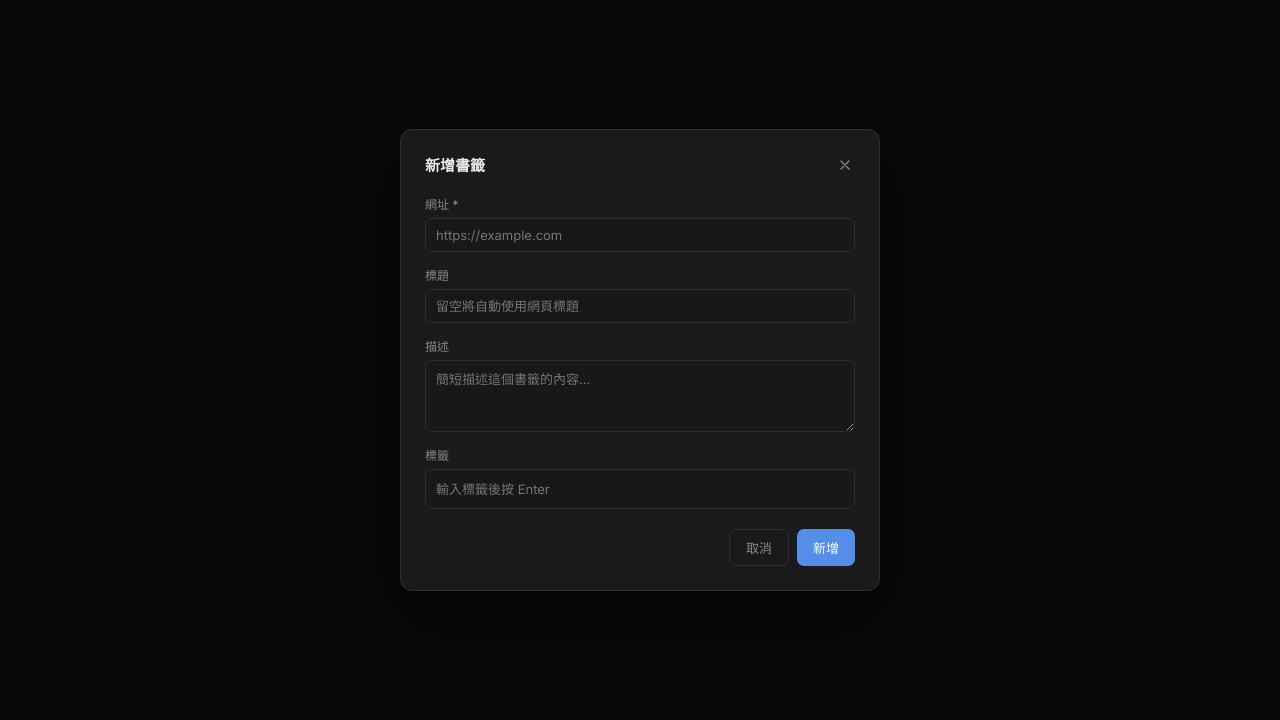
BookmarkModal › 點 tag 的 × → tag 從畫面消失
Note: 先加一個 tag
Type "vue" into the field with placeholder "輸入標籤後按 Enter". click: (640, 489)
box: [436,476,844,502]
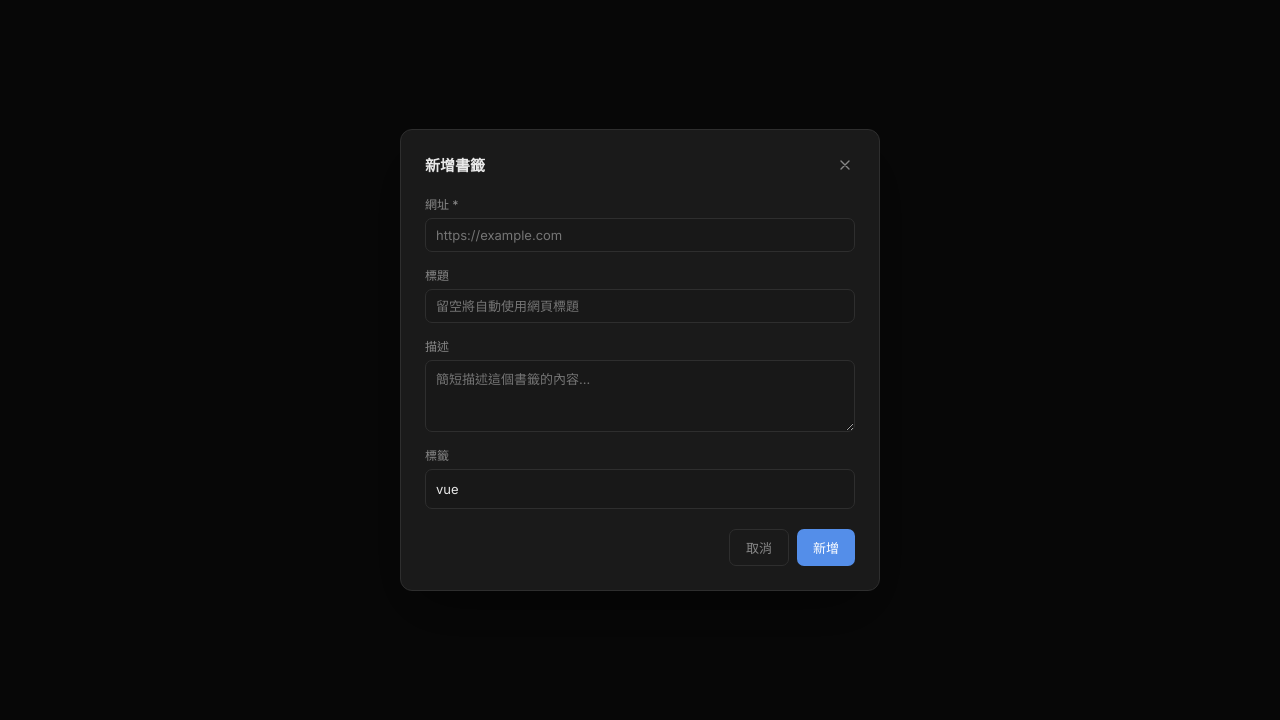
Press Enter in the field with placeholder "輸入標籤後按 Enter", box [436,476,844,502]
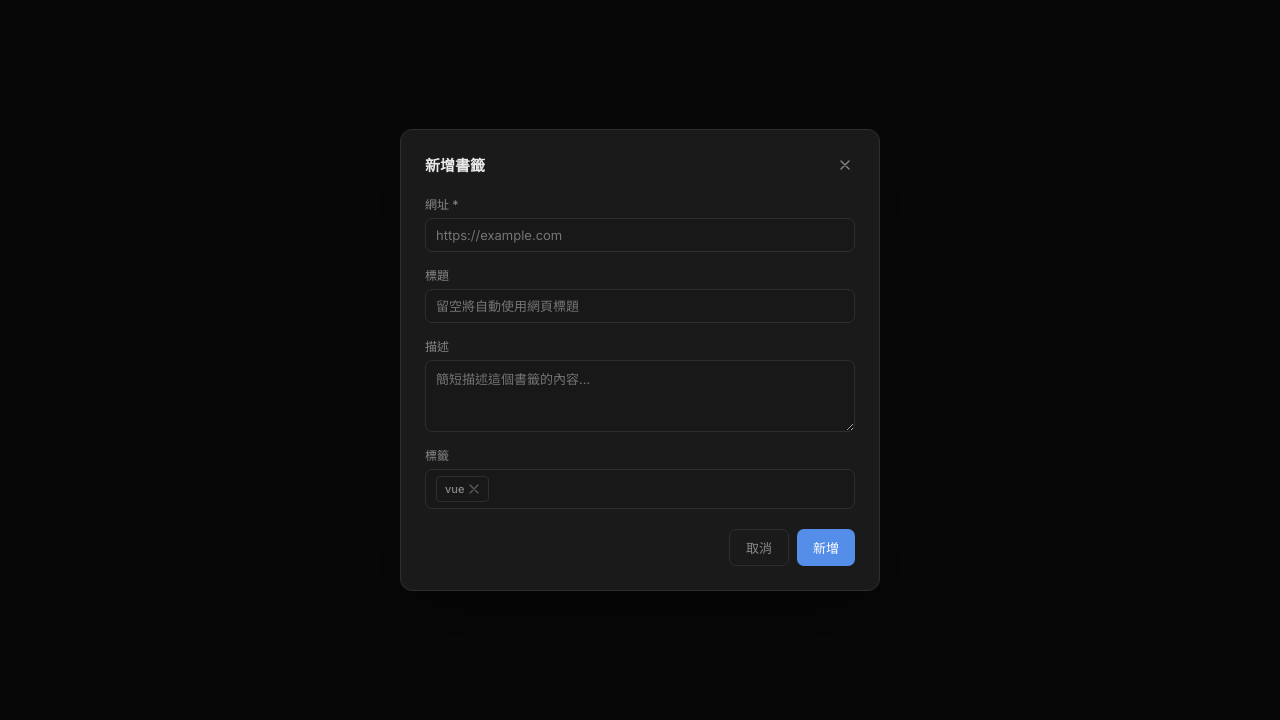
expect the text "vue" is shown: met, box [436,476,489,502]
Click the button named "Remove vue". click: (474, 489)
box: [468,483,480,495]
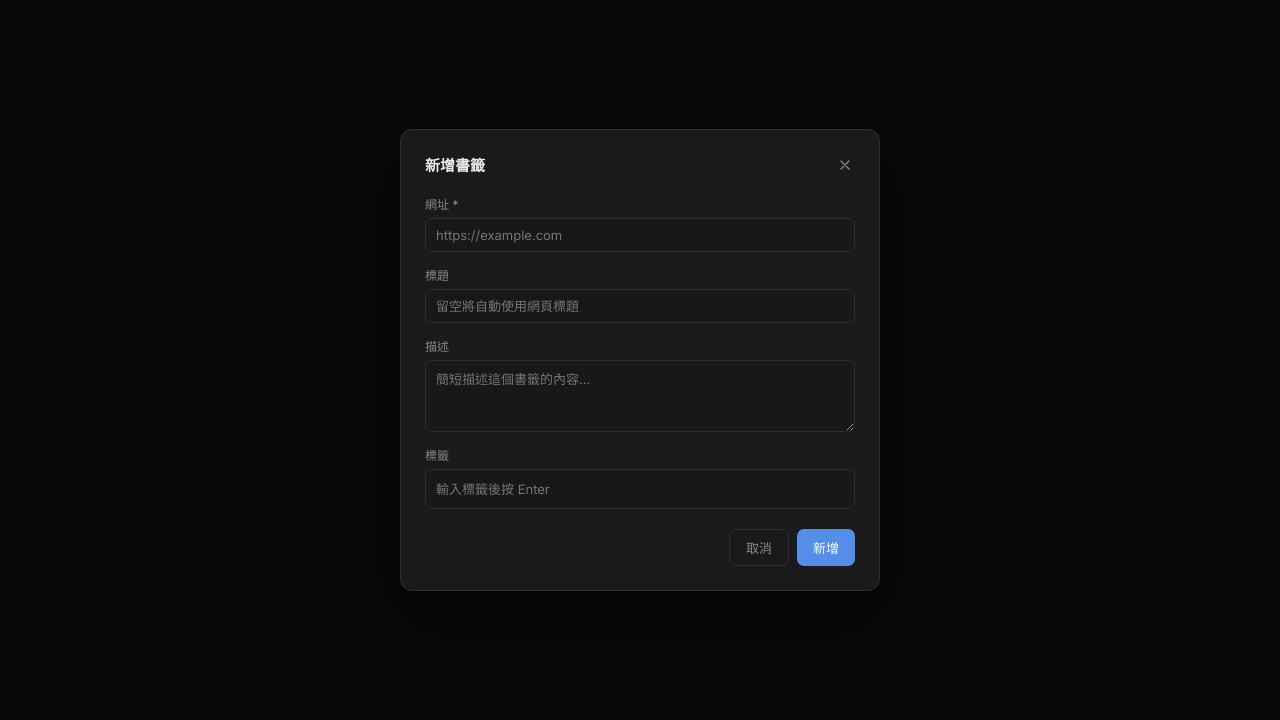
expect the text "vue" is gone: met
